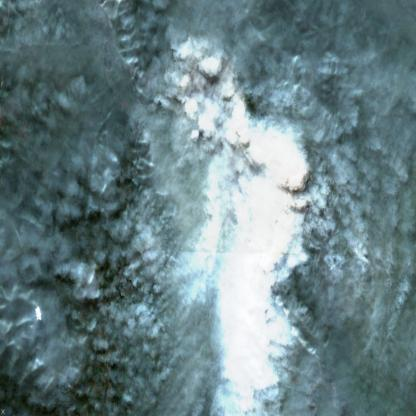fire: (172, 42, 313, 199)
